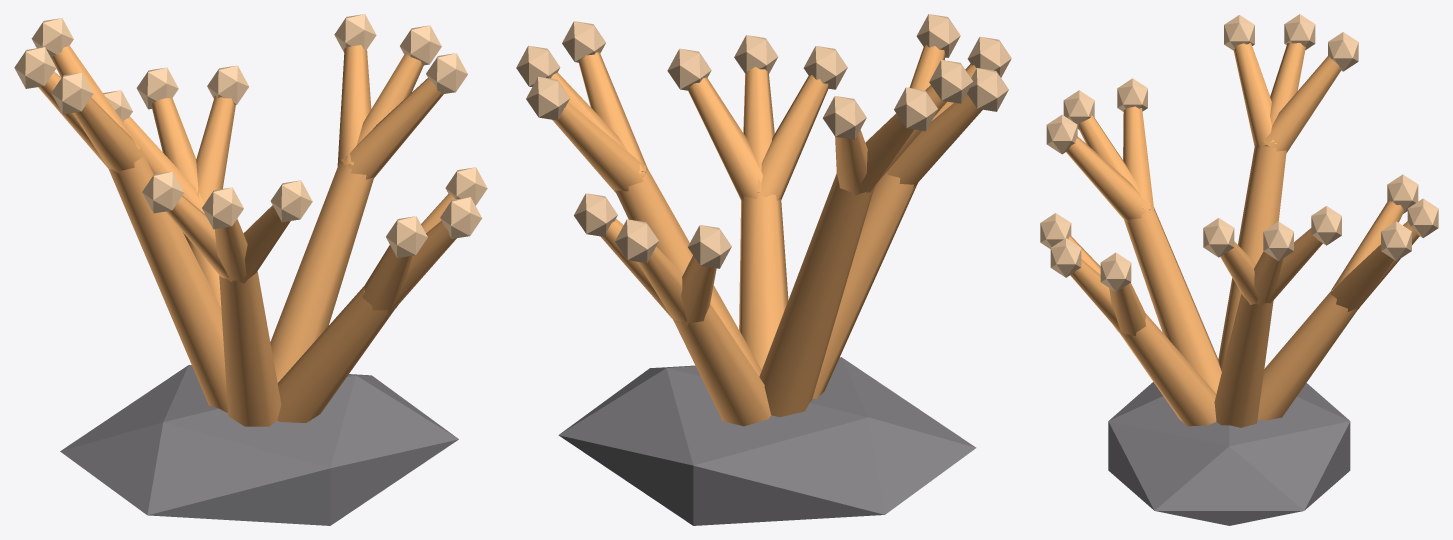
Rendered from ocean-scenery-30.glb.
3 views of the same model, side by side, from view 1: azimuth 30°, elevation 25°; view 2: azimuth 150°, elevation 25°; view 3: azimuth 270°, elevation 25° (orthographic). The views are drawn at different scales.
Visible parts, largest first — view 1: Branching ocean coral; view 2: Branching ocean coral; view 3: Branching ocean coral.
Boxes of the visible parts, x1,y1,x2,y2 form: Branching ocean coral: (14,14,487,525); Branching ocean coral: (516,14,1011,525); Branching ocean coral: (1040,14,1438,525).
Size of the model in its own units: 1.54 by 1.67 by 1.54.
